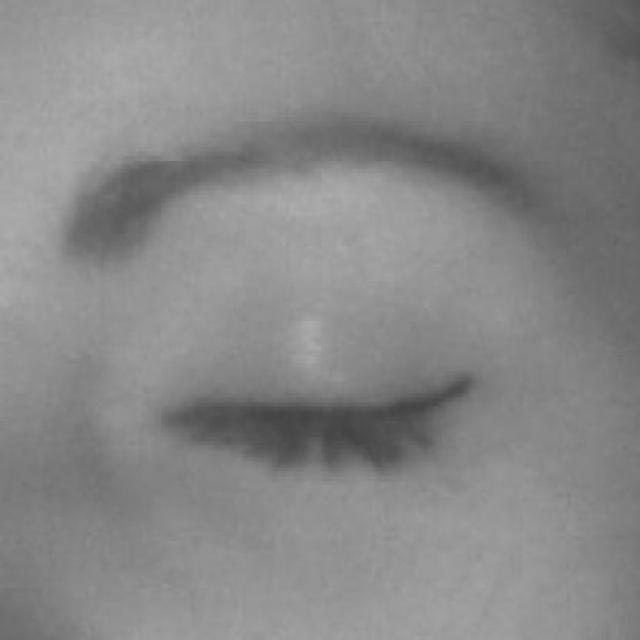drowsy: (160, 297, 474, 568)
